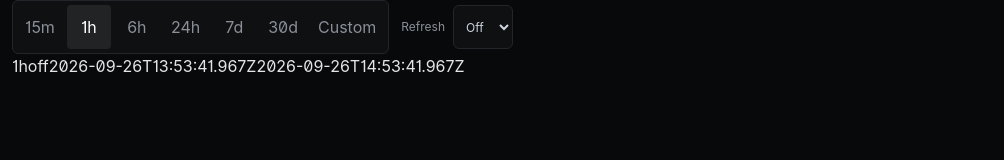
Scenario: admin time range preferences › persists and restores a bounded custom range
The width and height of the screenshot is (1004, 160).
Click the button "Custom": [347, 27] box [310,5,384,49]
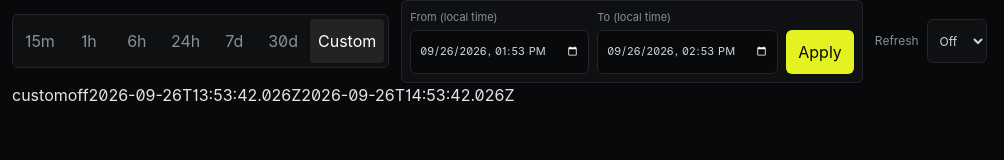
Replace the text in the field labelled "From (local time)" with "2026-09-17T10:00": [500, 52] box [410,30,589,74]
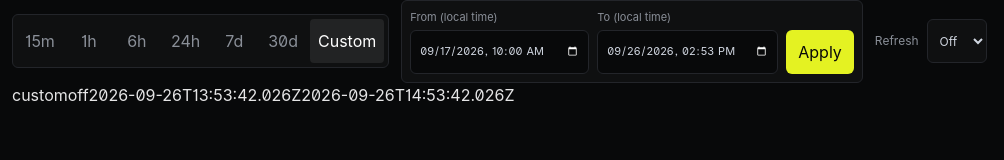
Replace the text in the field labelled "To (local time)" with "2026-09-17T11:30": [688, 52] box [597,30,778,74]
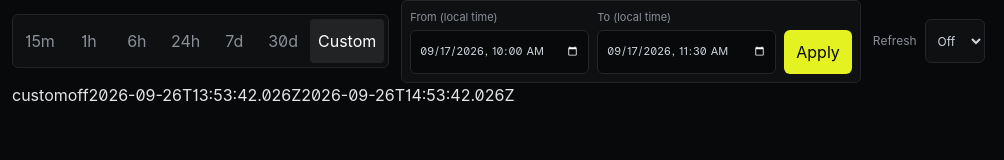
Click the button "Apply": [818, 52] box [784,30,852,74]
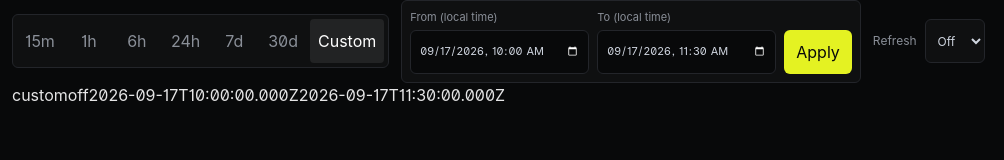
Result: the text with test id "range" reads "custom" at [12,84,68,104]
Result: the text "2026-09-17T11:30:00.000Z" is shown at [299,84,505,104]
